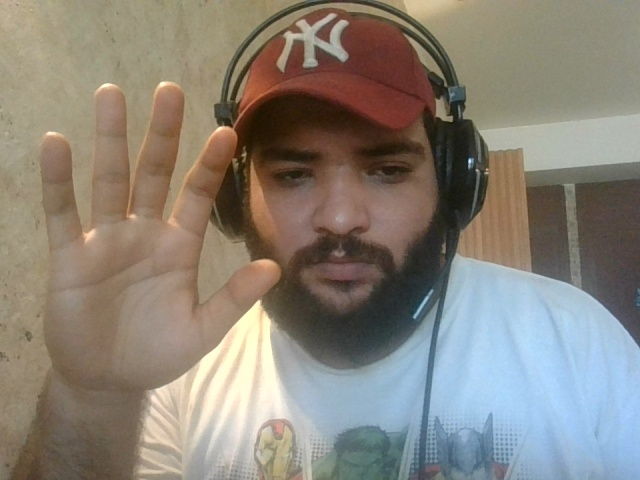hello: (29, 76, 285, 406)
